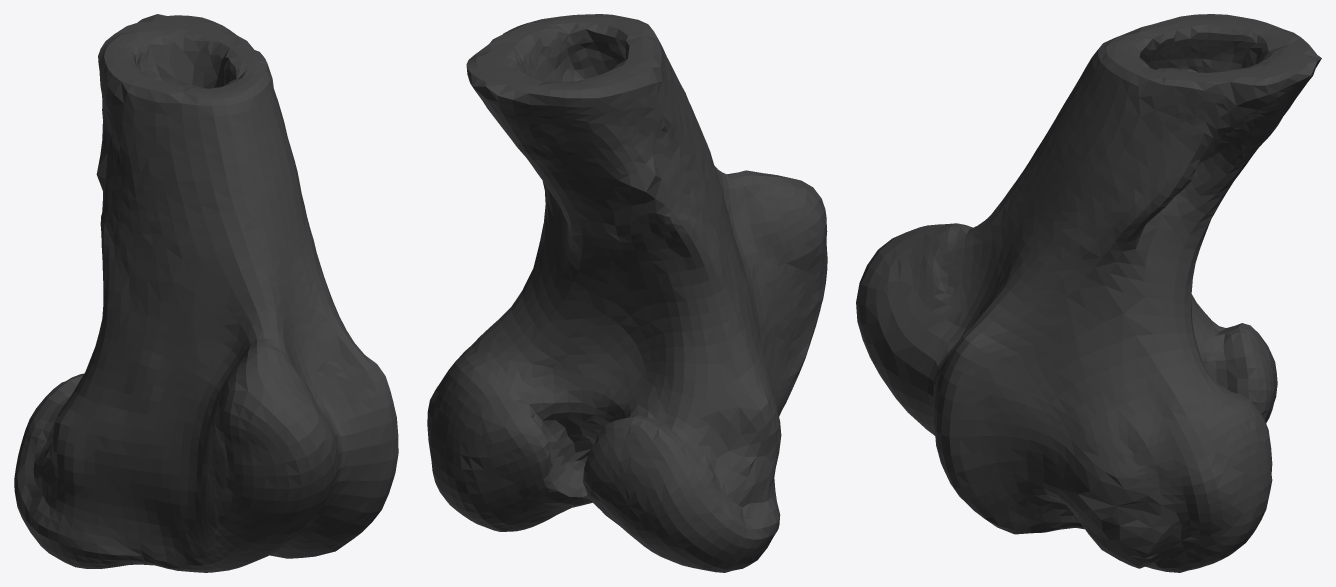
Rendered from Femur.glb.
3 views of the same model, side by side, from view 1: azimuth 30°, elevation 25°; view 2: azimuth 150°, elevation 25°; view 3: azimuth 270°, elevation 25° (orthographic). The views are drawn at different scales.
Parts seen in each view (by area): view 1: Femur; view 2: Femur; view 3: Femur.
Part boxes in pixels (box(x1,y1,x2,y2)): Femur: box(14, 14, 398, 572); Femur: box(427, 14, 827, 572); Femur: box(856, 14, 1321, 572).
Size of the model in its own units: 1.19 by 1.78 by 1.54.
1 material, 1 textured.
